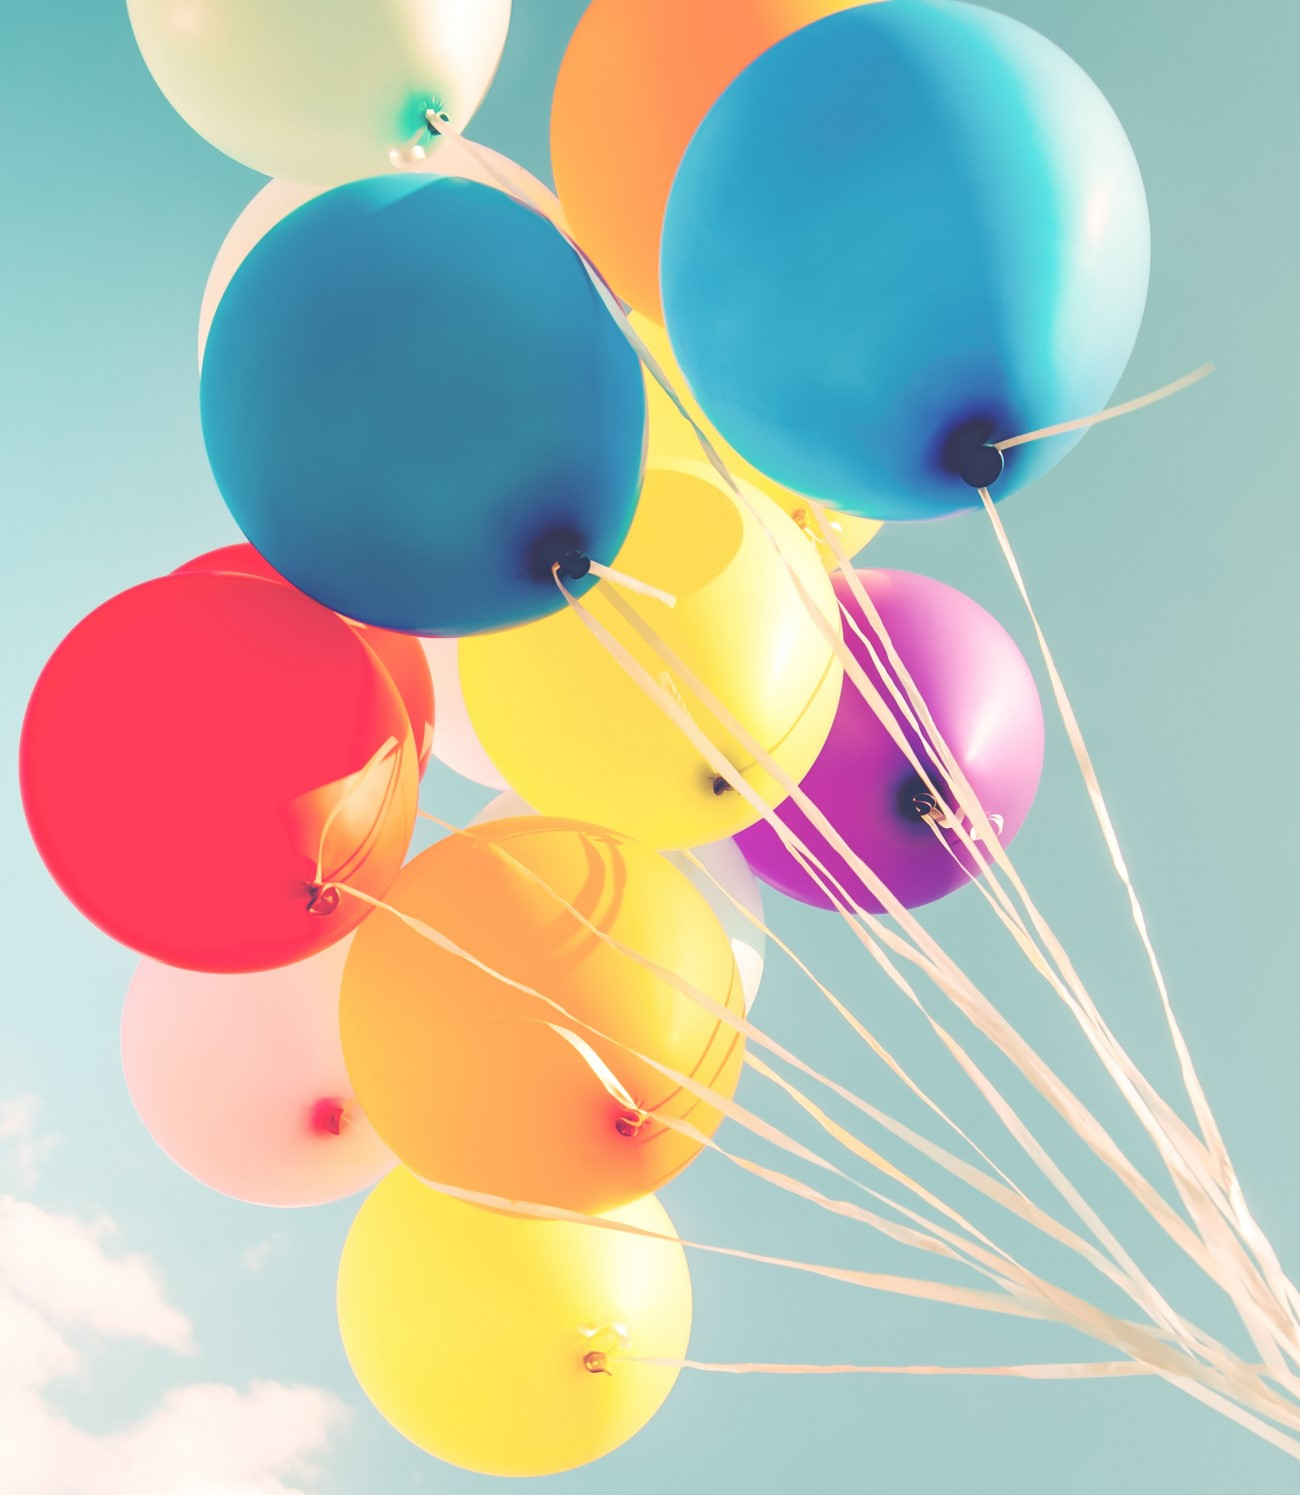Balloon: (661, 1, 1153, 522), (207, 177, 646, 636), (339, 814, 743, 1214), (20, 571, 421, 971), (463, 464, 846, 838), (342, 1164, 694, 1480)
